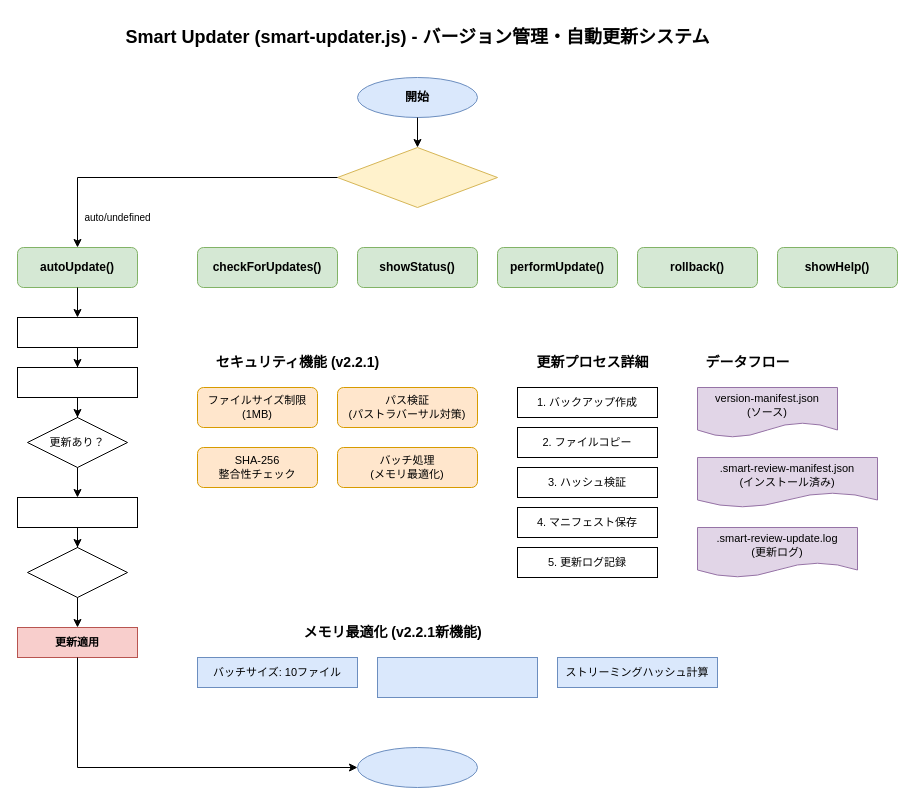
The diagram is 915 pixels wide and 805 high, and some of its shapes have lost their labels. Here are the shapes that lost their labels. From the top down, the centre of each, then its label:
pixel 417 177: コマンド解析
pixel 77 332: マニフェスト読み込み
pixel 77 382: バージョン比較
pixel 77 512: 更新リスト表示
pixel 77 572: 更新確認
pixel 457 677: ガベージコレクション促進 (50ファイルごと)
pixel 417 767: 終了
